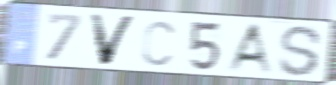5: (186, 19, 224, 72)
7: (44, 11, 84, 63)
A: (224, 21, 277, 77)
C: (140, 18, 177, 68)
S: (276, 23, 325, 79)
V: (87, 12, 140, 67)
